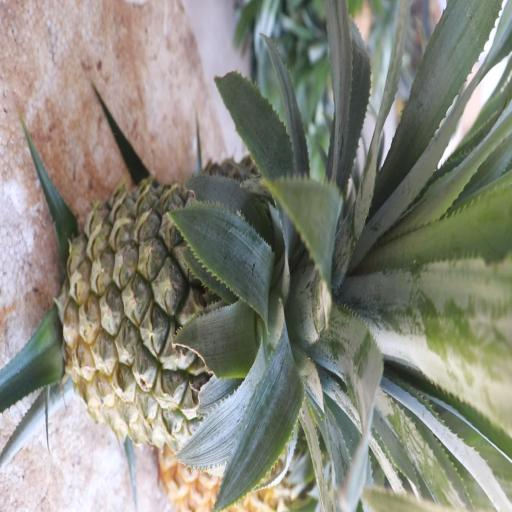------------------------------: (67, 188, 312, 441)
